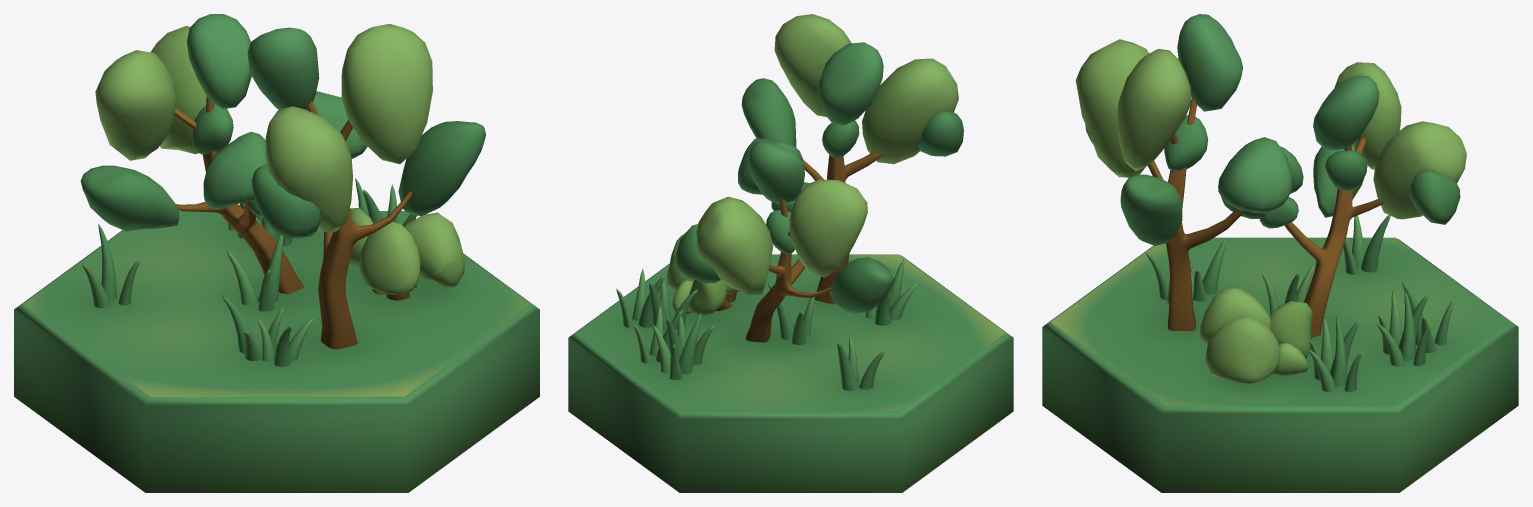
File: trees1.fbx
The picture shows the model from 3 angles, left to right: view 1: azimuth 30°, elevation 25°; view 2: azimuth 150°, elevation 25°; view 3: azimuth 270°, elevation 25°; orthographic projection. The views are drawn at different scales.
Visible parts, largest first — view 1: trees1; view 2: trees1; view 3: trees1.
Boxes of the visible parts, <box> form: trees1: <box>14,14,539,492</box>; trees1: <box>568,14,1013,492</box>; trees1: <box>1042,14,1518,492</box>.
Size of the model in its own units: 83.21 by 82.57 by 96.08.
Materials: 1 (1 with a texture image).
